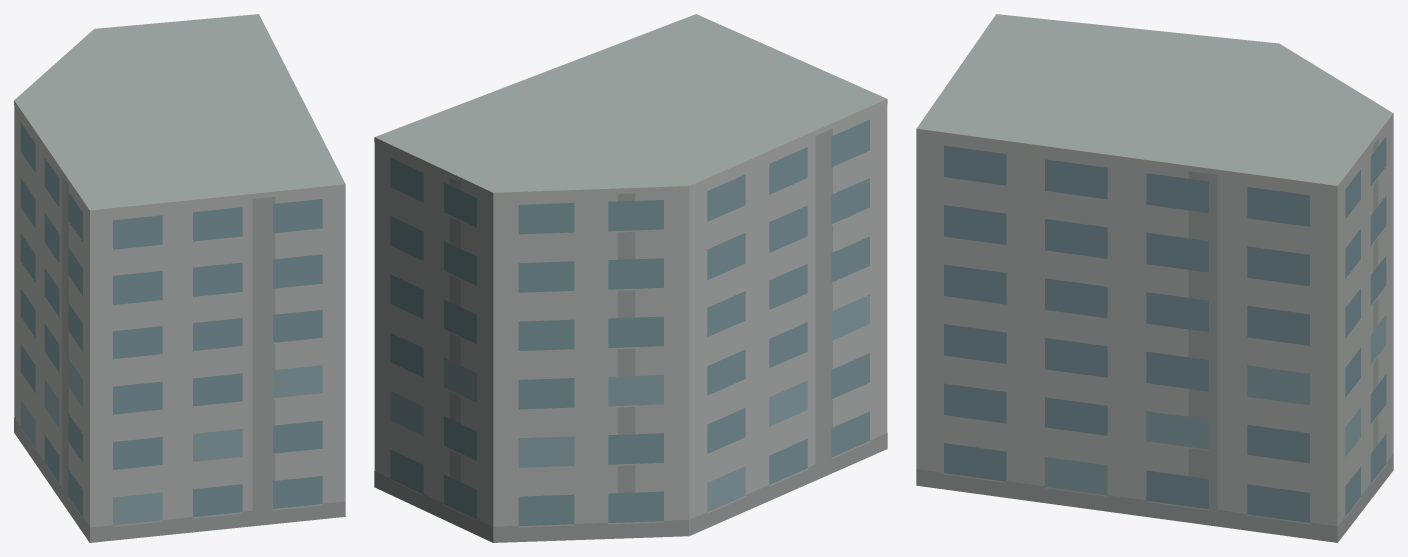
The model's file is survey-upis-32804678.glb.
3 renders of one model, left to right at view 1: azimuth 30°, elevation 25°; view 2: azimuth 150°, elevation 25°; view 3: azimuth 270°, elevation 25°, orthographic. The views are drawn at different scales.
Visible parts, largest first — view 1: survey-upis-32804678.tmp; view 2: survey-upis-32804678.tmp; view 3: survey-upis-32804678.tmp.
Part boxes in pixels (<box>): survey-upis-32804678.tmp: <box>14,14,345,542</box>; survey-upis-32804678.tmp: <box>374,14,887,542</box>; survey-upis-32804678.tmp: <box>916,14,1393,542</box>.
Bounding box in the file's own units: 16.27 × 15.74 × 19.08.
